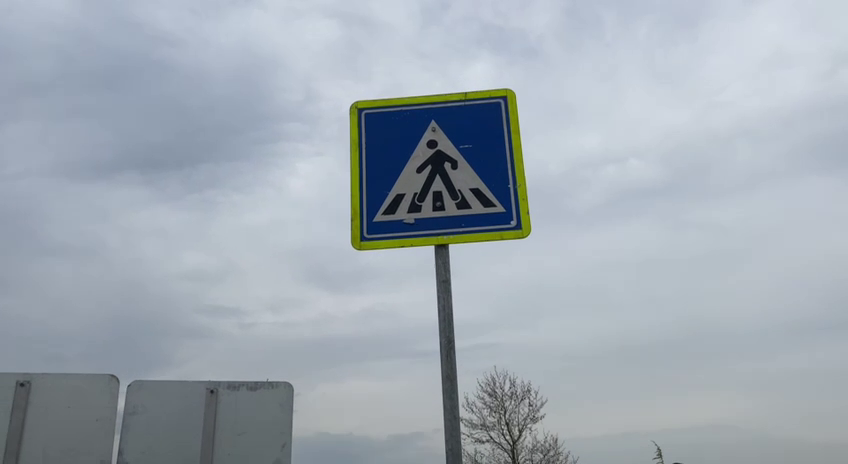pedestrianCrossing: (343, 86, 535, 252)
